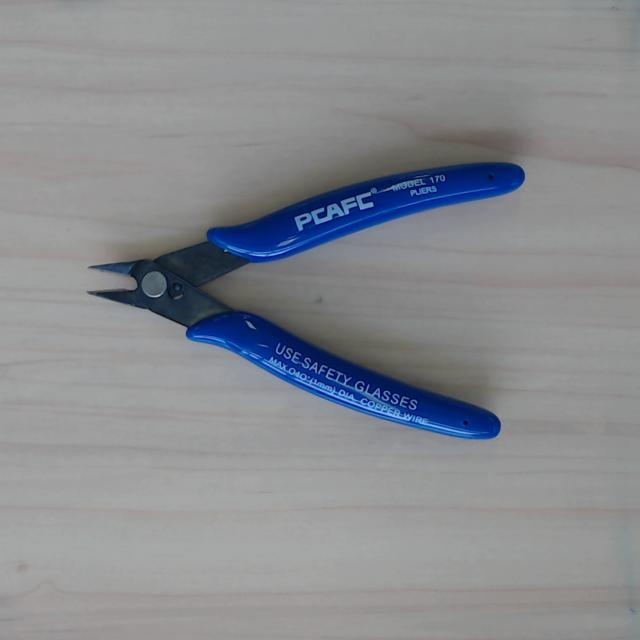Tang-Potong-Biru: (78, 124, 525, 441)
